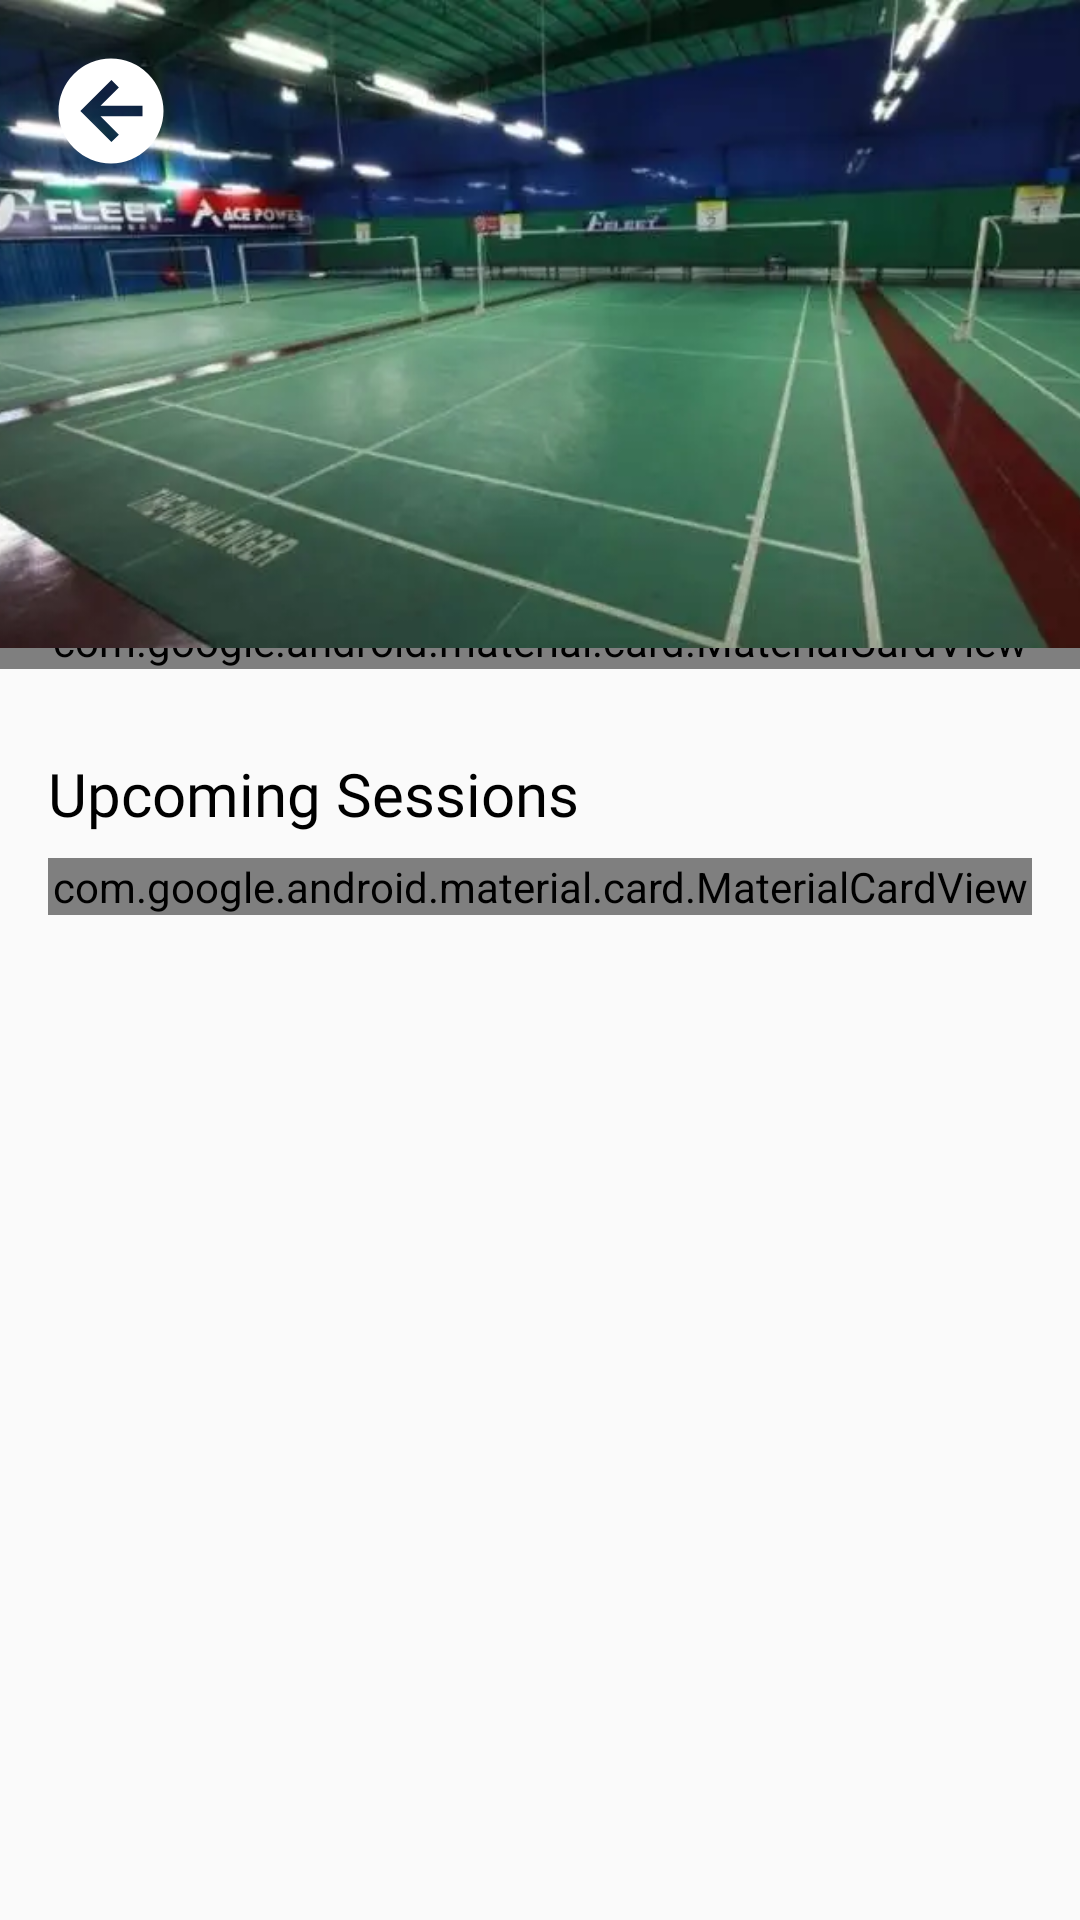

Icon click points for this 1080px x 1920px phone screenshot, format [x,y]:
back: [111,111]
